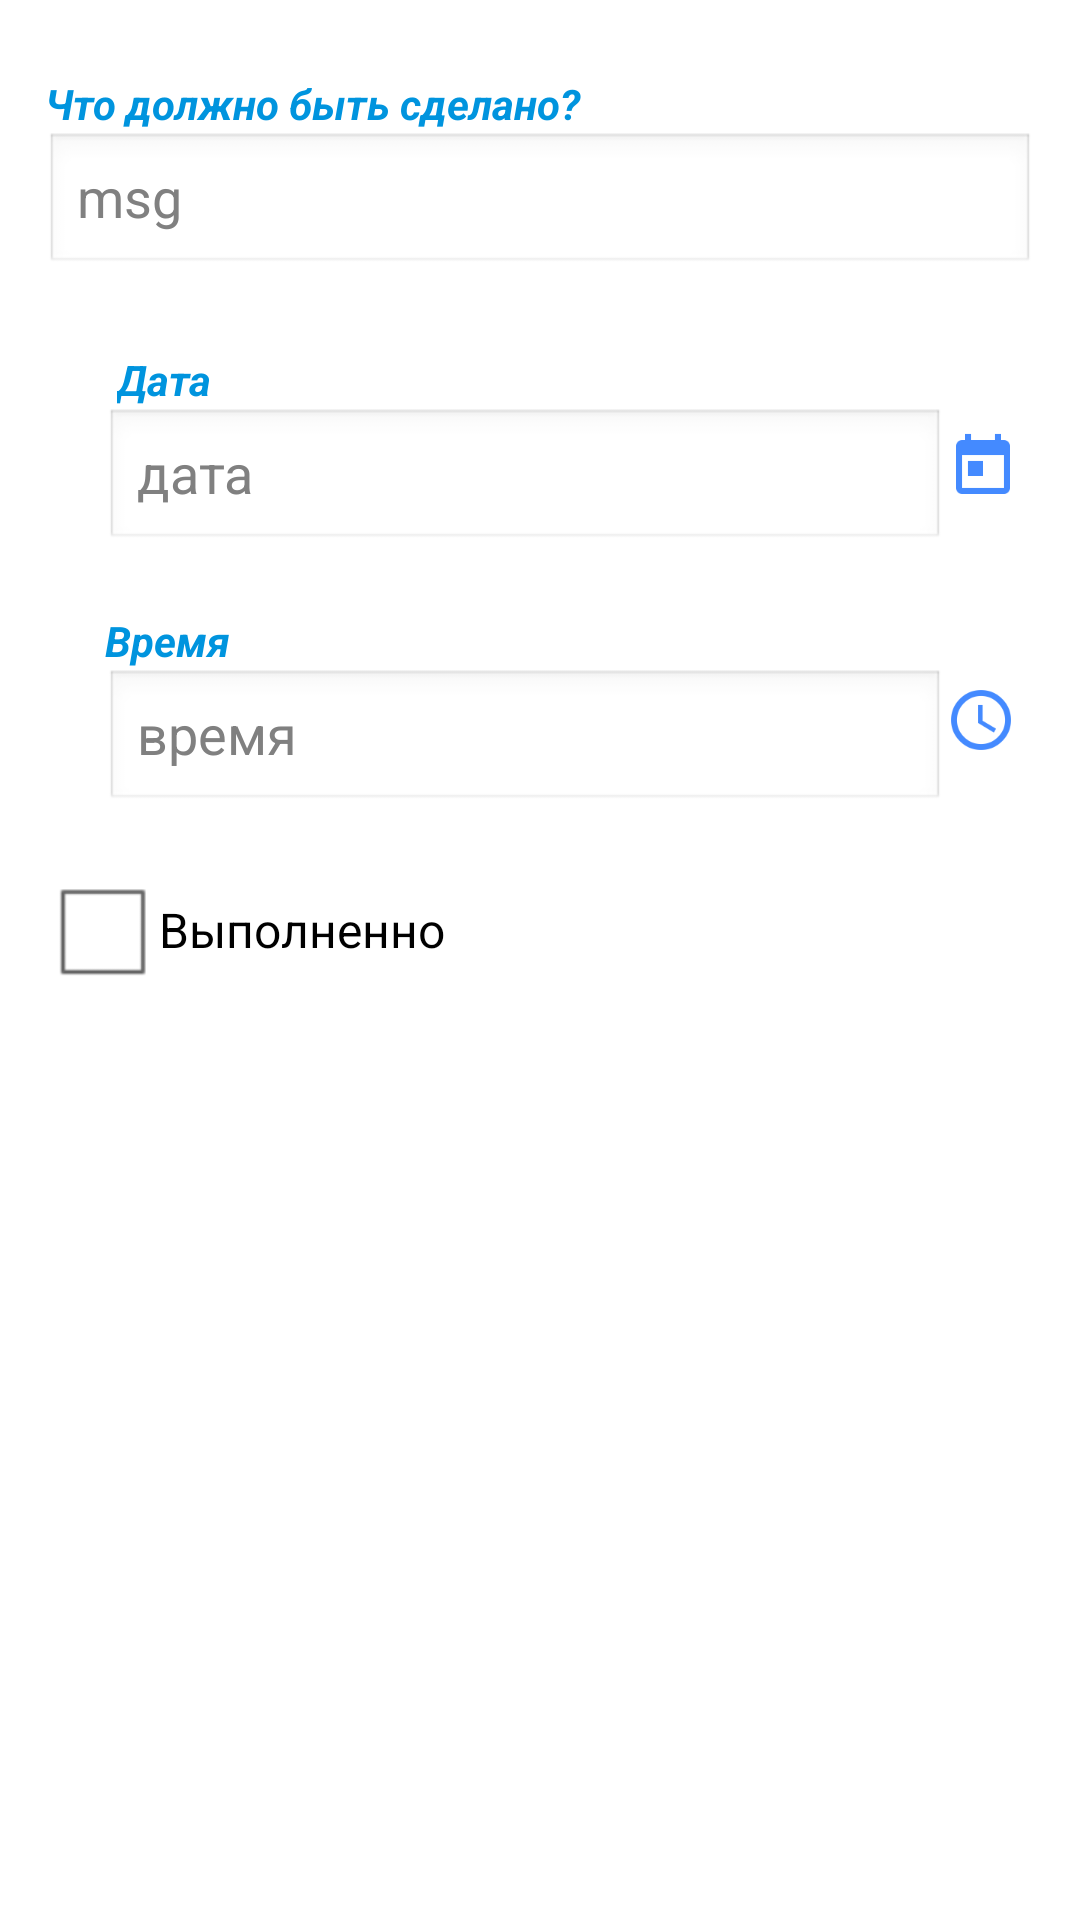

Point at icon controls on the screen. Image size 1080px x 1920px, points as [x,y].
shortcut access time: [981,720]
shortcut today: [983,464]
